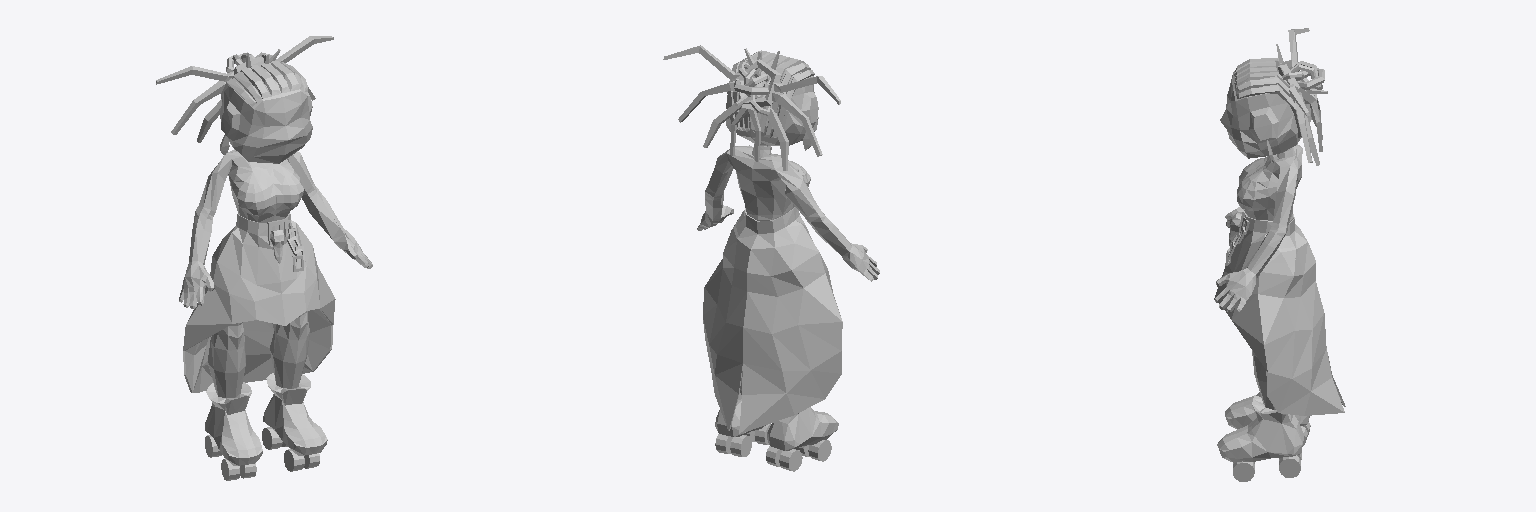
The model's file is bruja_000234.obj.
3 renders of one model, left to right at view 1: azimuth 30°, elevation 25°; view 2: azimuth 150°, elevation 25°; view 3: azimuth 270°, elevation 25°, orthographic.
Parts seen in each view (by area): view 1: Bruja_Plane.001; view 2: Bruja_Plane.001; view 3: Bruja_Plane.001.
Part boxes in pixels (x1,y1,x2,y2): Bruja_Plane.001: (156, 36, 372, 480); Bruja_Plane.001: (663, 45, 879, 471); Bruja_Plane.001: (1214, 28, 1345, 481).
Size of the model in its own units: 7.68 by 16.64 by 4.82.